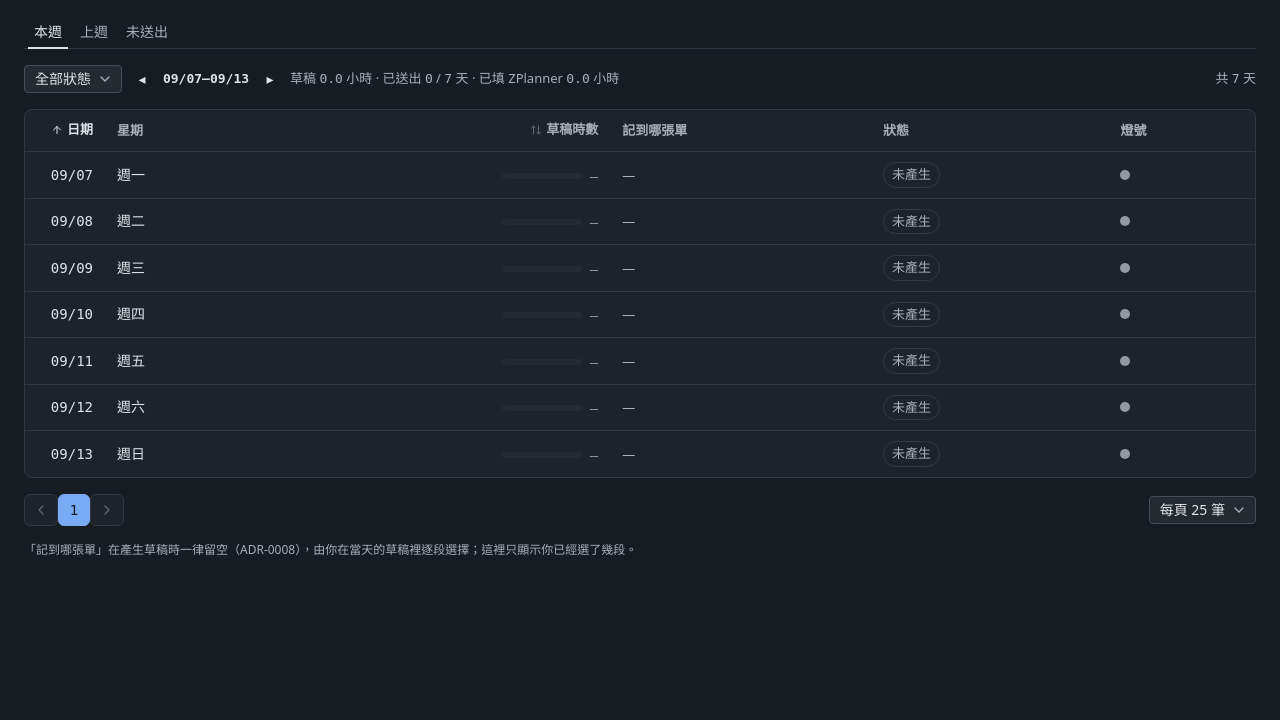
翻週：可以翻到任何一週（與舊週欄同一套行為） › 未送出模式不顯示翻週（它的範圍固定是本週＋上週，寫在畫面上）
The width and height of the screenshot is (1280, 720).
Click the button named "上一週": [142, 79] box [130,67,154,91]
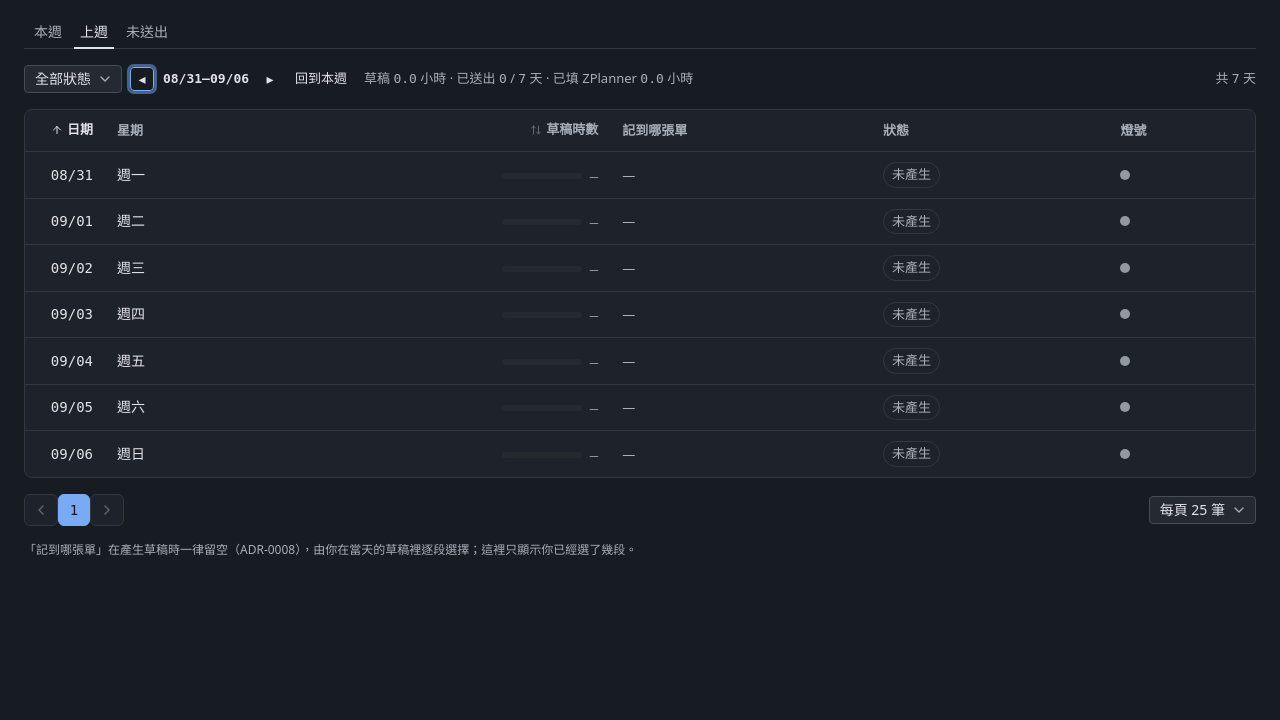
Click the button named "上一週": [142, 79] box [130,67,154,91]
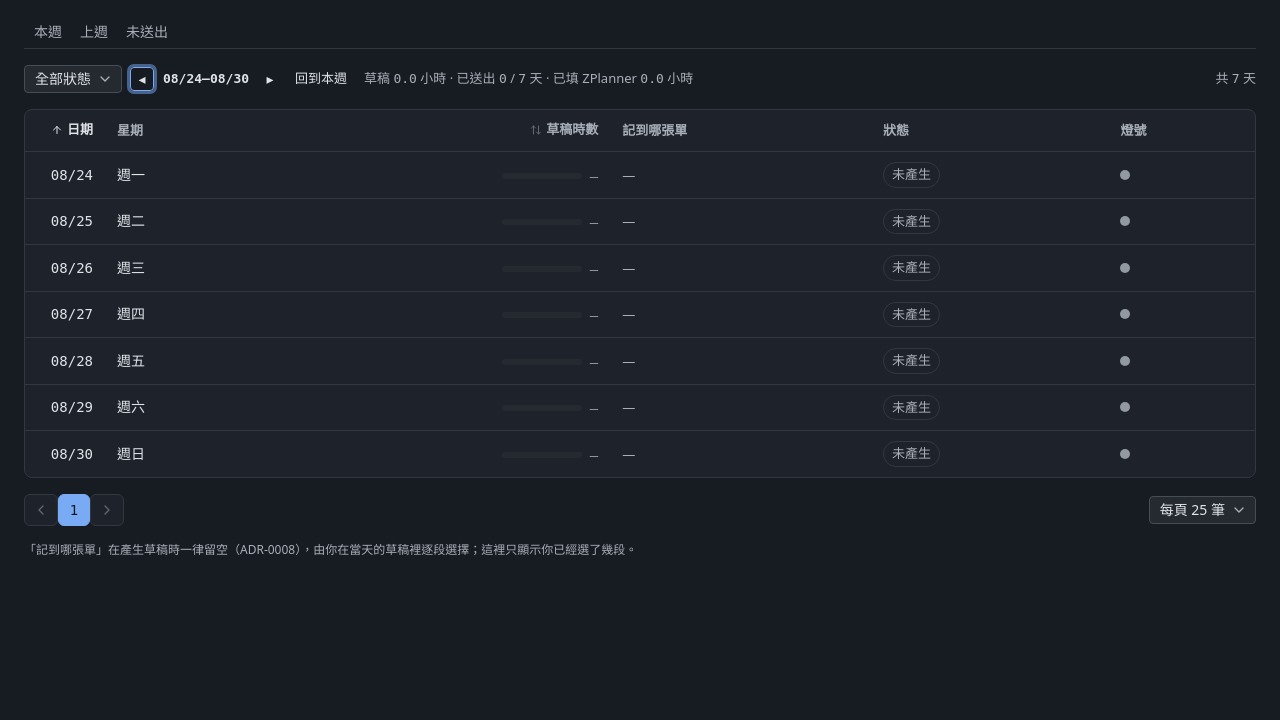
Click the tab "未送出": [147, 32] box [119,20,175,44]
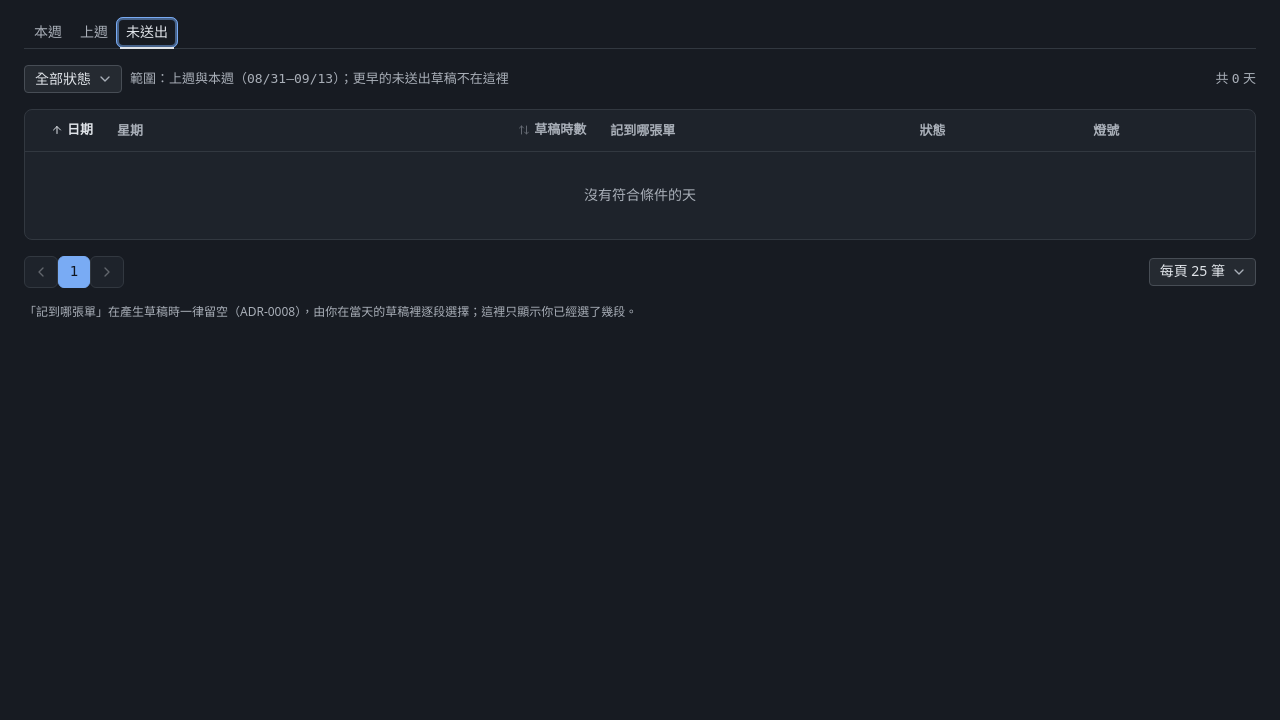
Result: the button "上一週" is gone
Result: the text "範圍：上週與本週（08/31–09/13）；更早的未送出草稿不在這裡" is shown at [130,69,509,89]
